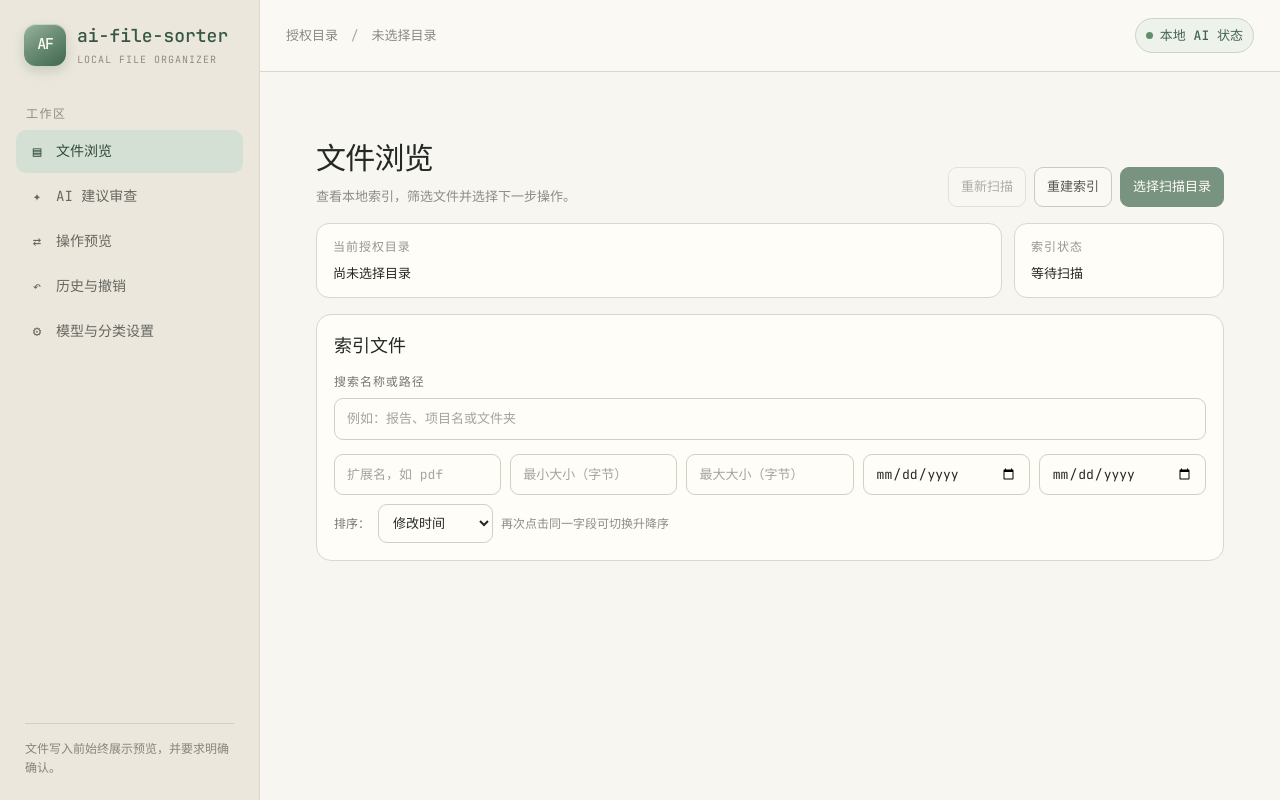
Scenario: App › shows an error when directory selection fails
This screenshot has width=1280, height=800.
Step 1. Click the button "选择扫描目录" → click(1172, 187), box [1120,167,1224,206]
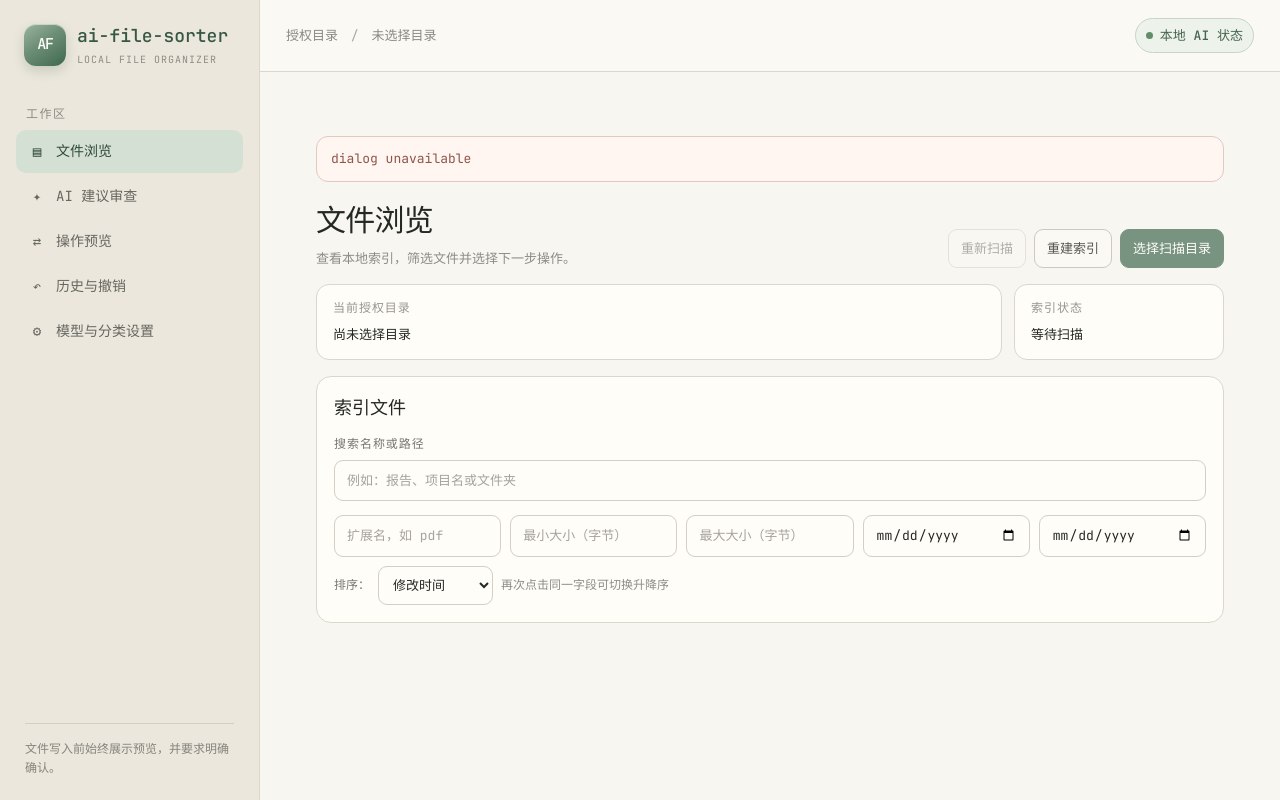
Now the message "dialog unavailable" is shown, box [316,136,1224,182]
